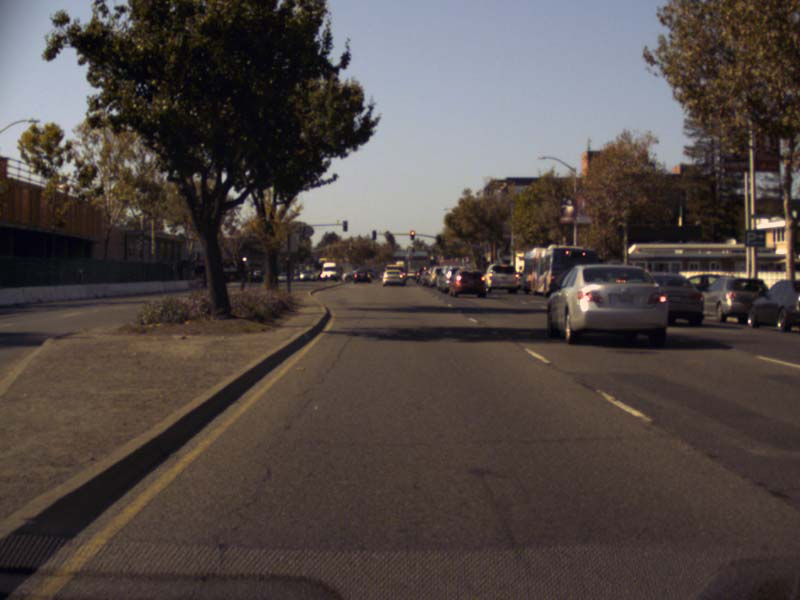Red: (410, 231, 413, 239)
